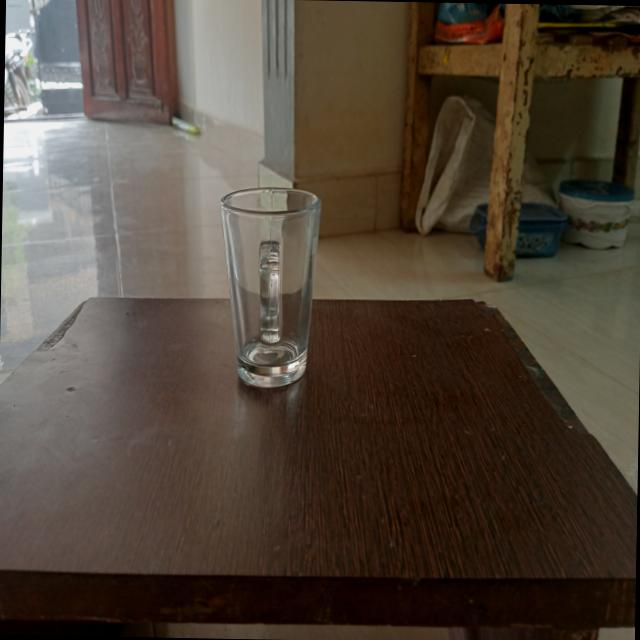glass-VX4N: (213, 184, 323, 396)
